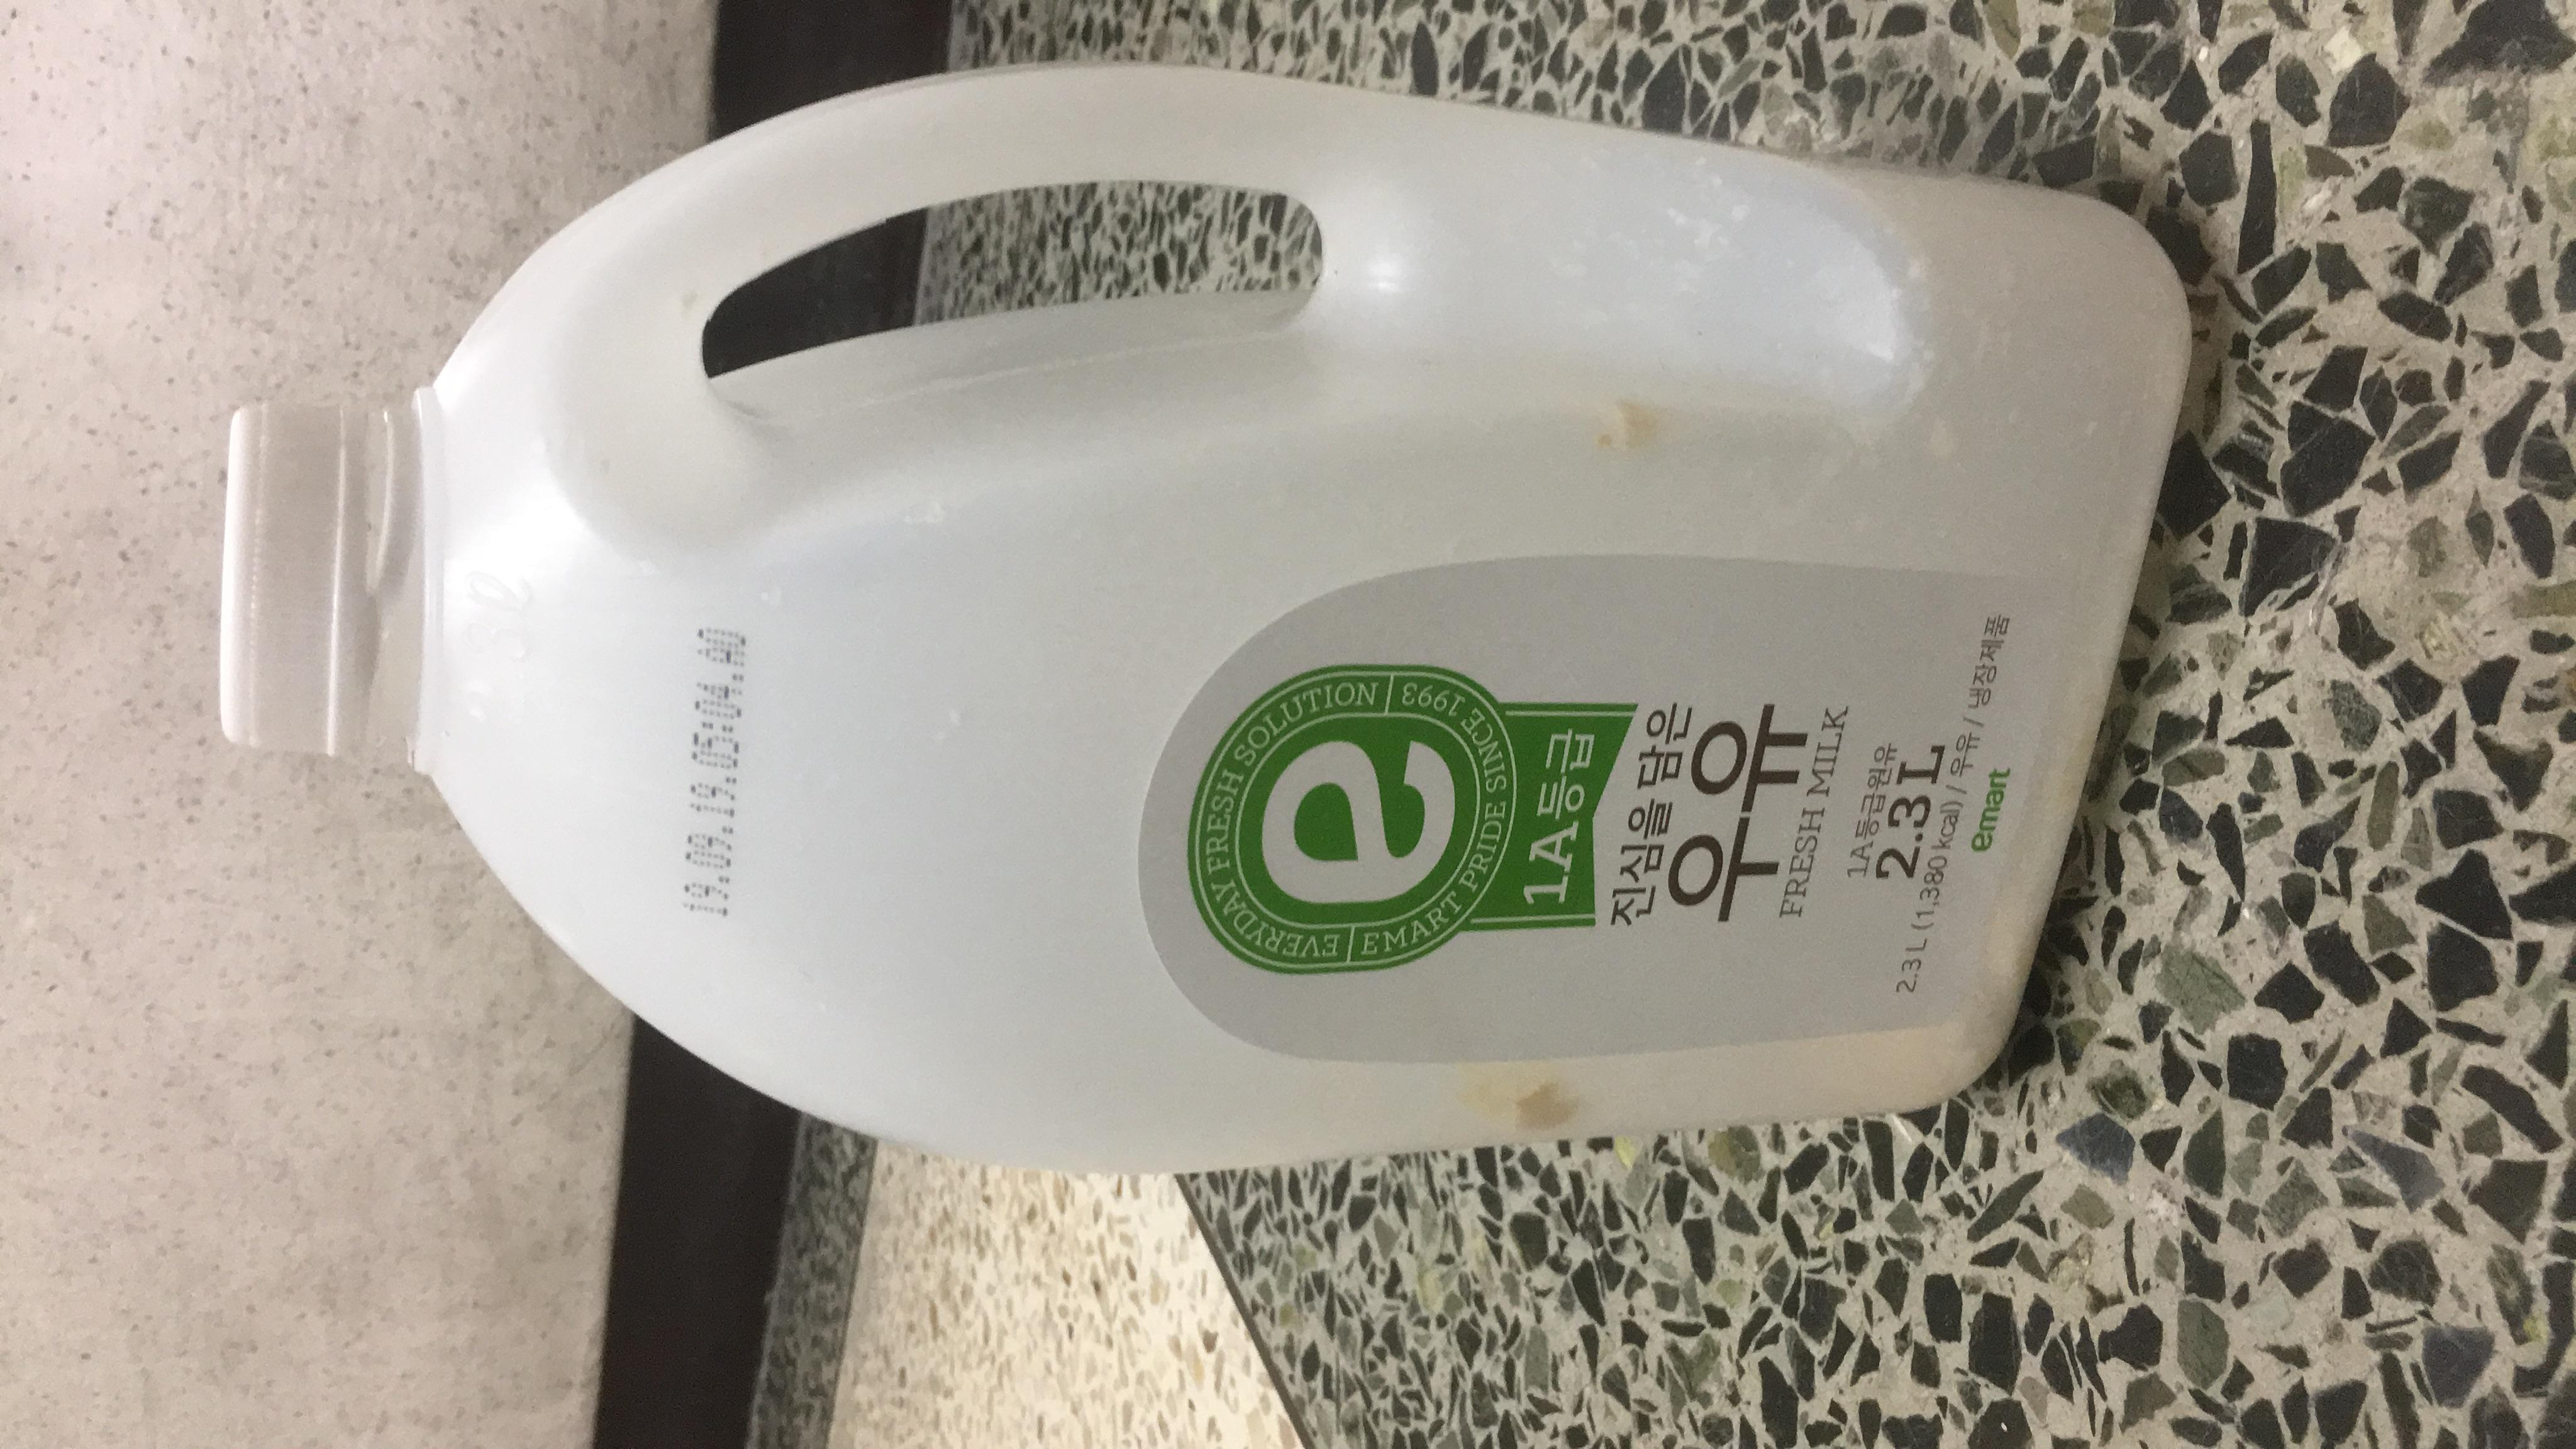bottle: (1403, 87, 1433, 1240)
